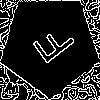F: (24, 20, 77, 73)
